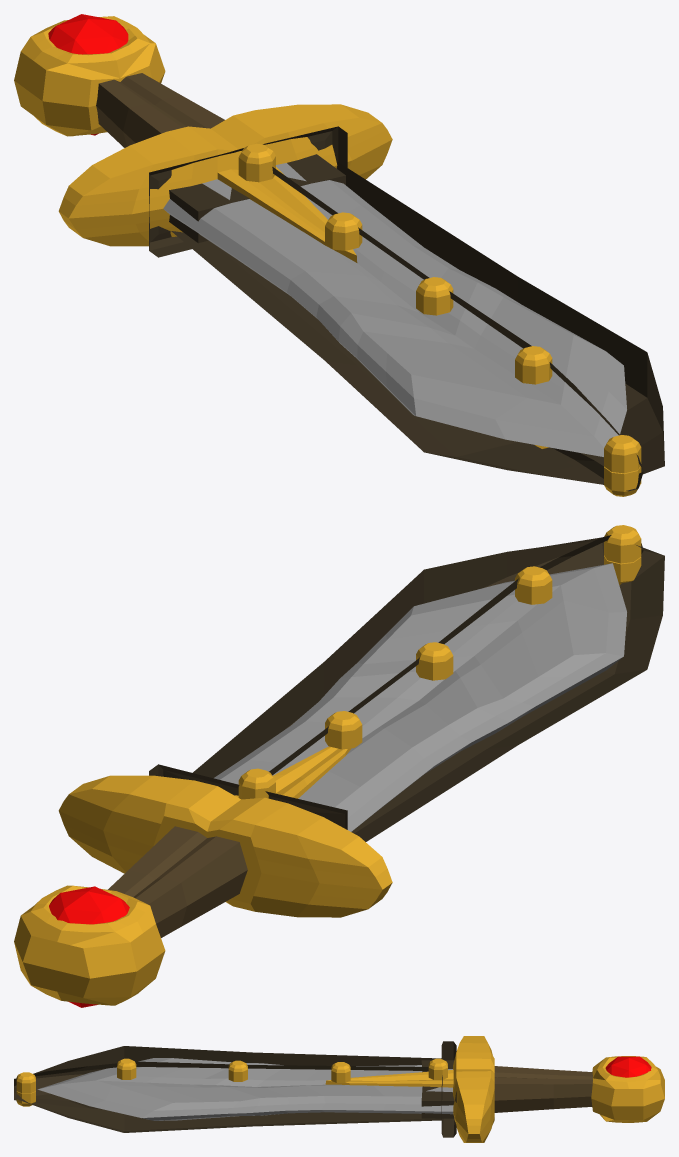
Rendered from sword.fbx.
3 renders of one model, top to bottom at view 1: azimuth 30°, elevation 25°; view 2: azimuth 150°, elevation 25°; view 3: azimuth 270°, elevation 25°, orthographic. The views are drawn at different scales.
Visible parts, largest first — view 1: Plane, Plane.003; view 2: Plane, Plane.003; view 3: Plane, Plane.003.
Part boxes in pixels (bbox=[...]): Plane: bbox=[14, 14, 626, 456]; Plane.003: bbox=[149, 126, 664, 496]; Plane: bbox=[14, 563, 626, 1007]; Plane.003: bbox=[149, 525, 664, 841]; Plane: bbox=[37, 1036, 664, 1142]; Plane.003: bbox=[14, 1041, 456, 1137].
Bounding box in the file's own units: 460 × 151 × 1419.
